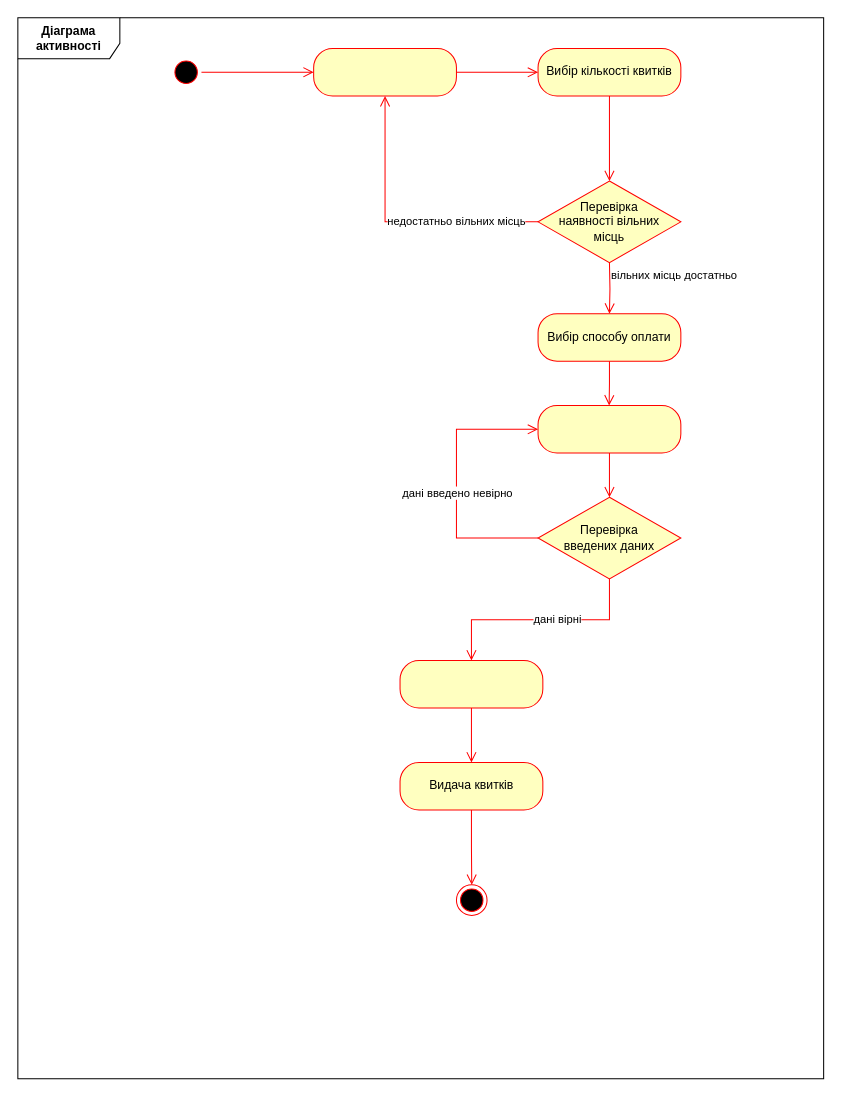
The diagram is 842 pixels wide and 1097 high, and some of its shapes have lost their labels. The shapes that lost their labels are listed below. From the top down, each one's box as (x1, y1, x2, y2) in pixels, then its label:
(313, 47, 456, 96): Пошук доступних дат та часу виставки
(537, 404, 681, 453): Введення даних
(399, 659, 543, 708): Обробка платежу
